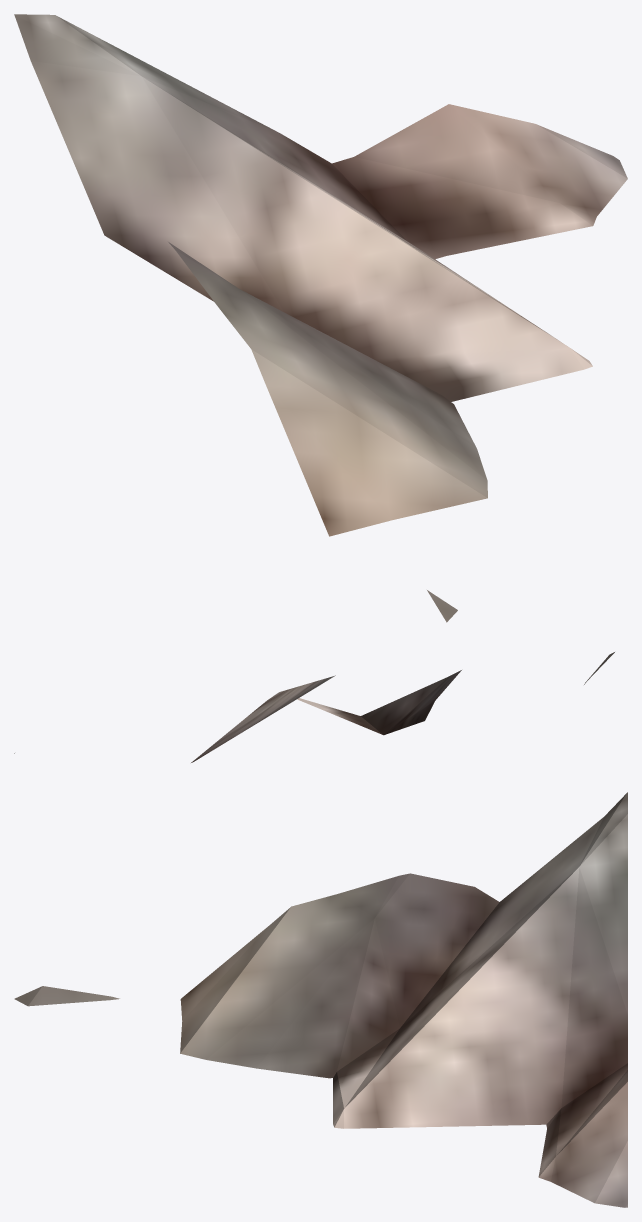
3 views of the same model, one above another, from view 1: azimuth 30°, elevation 25°; view 2: azimuth 150°, elevation 25°; view 3: azimuth 270°, elevation 25° (orthographic). The views are drawn at different scales.
Bounding box in the file's own units: 0.3911 × 0.1805 × 0.4857.
Materials: 1 (1 with a texture image).
